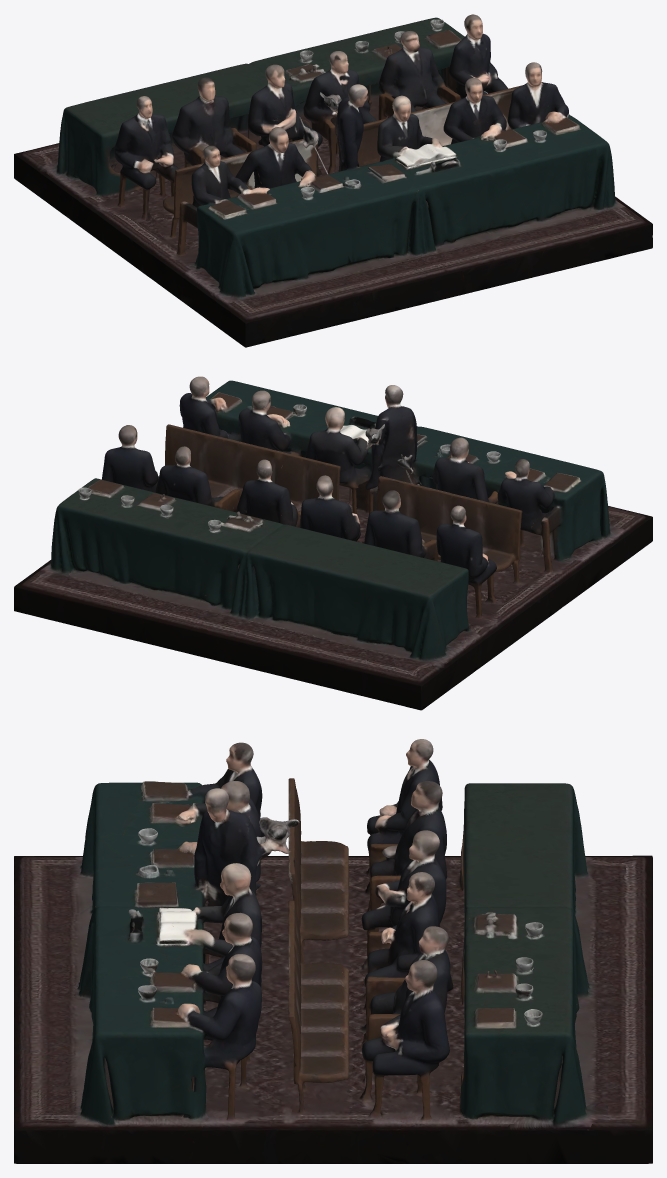
Rendered from hiep_dinh_hoi_nghi_21.glb.
The picture shows the model from 3 angles, top to bottom: view 1: azimuth 30°, elevation 25°; view 2: azimuth 150°, elevation 25°; view 3: azimuth 270°, elevation 25°; orthographic projection. The views are drawn at different scales.
Bounding box in the file's own units: 1.63 × 0.6254 × 1.61.
Materials: 1 (1 with a texture image).
